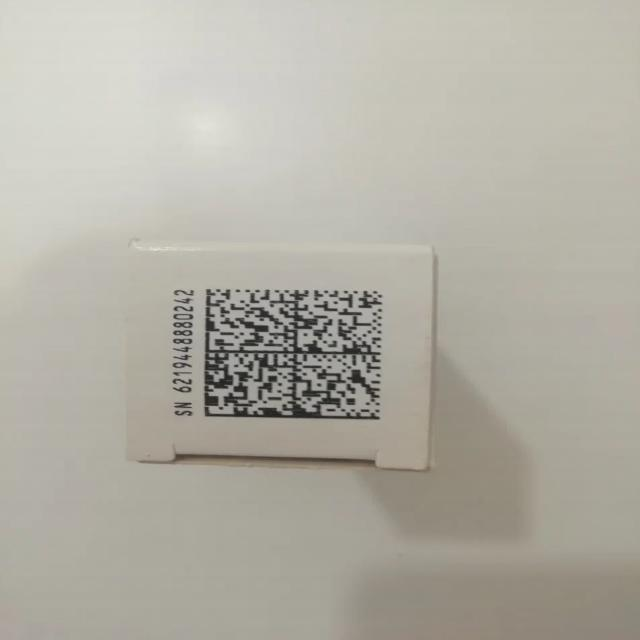datamatrix: (204, 287, 386, 421)
